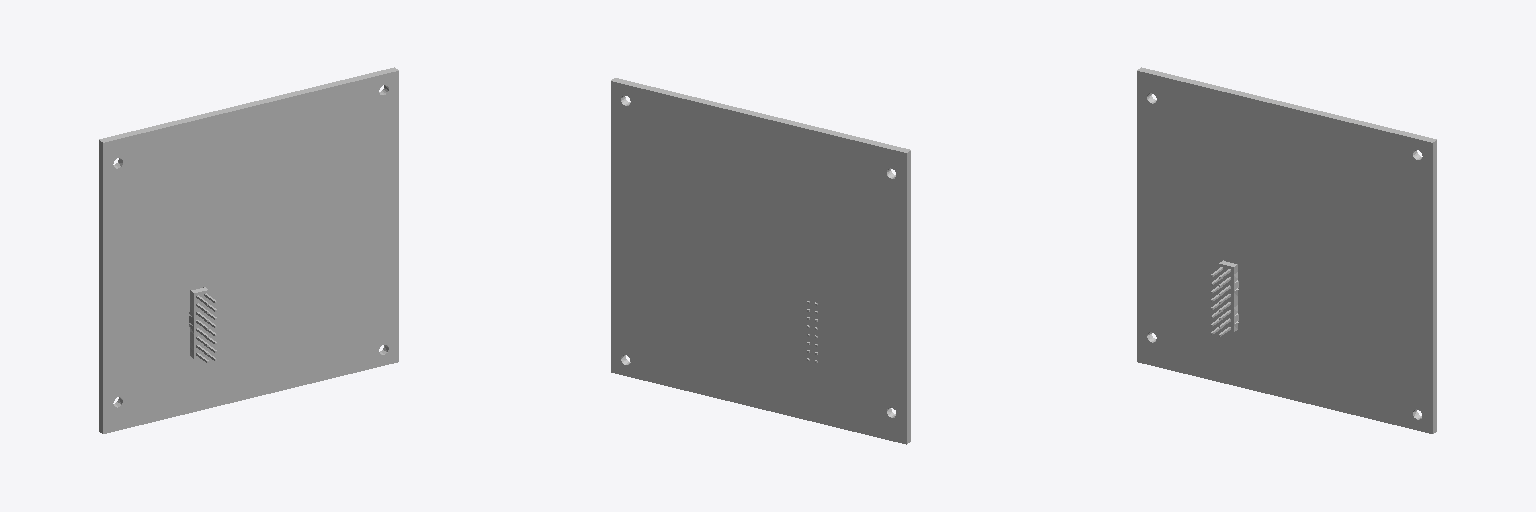
File: OBJ_PCB_PC104 Breakout.obj
3 views of the same model, side by side, from view 1: azimuth 30°, elevation 25°; view 2: azimuth 150°, elevation 25°; view 3: azimuth 330°, elevation 25° (orthographic).
Bounding box in the file's own units: 376 × 354 × 45.17.